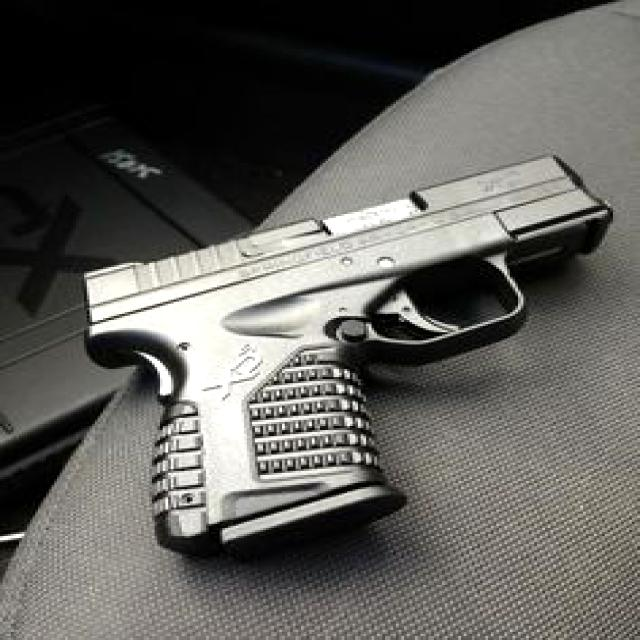semi automatic: (68, 143, 608, 581)
